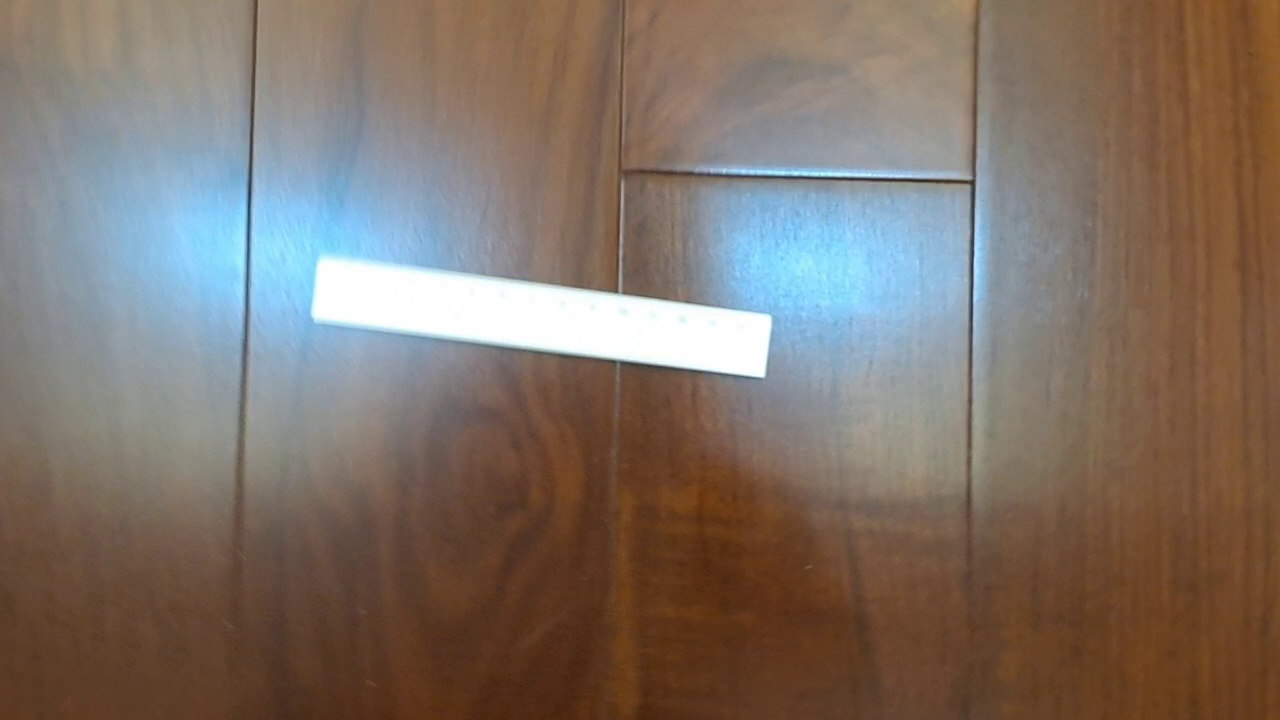ruler: (309, 253, 772, 380)
